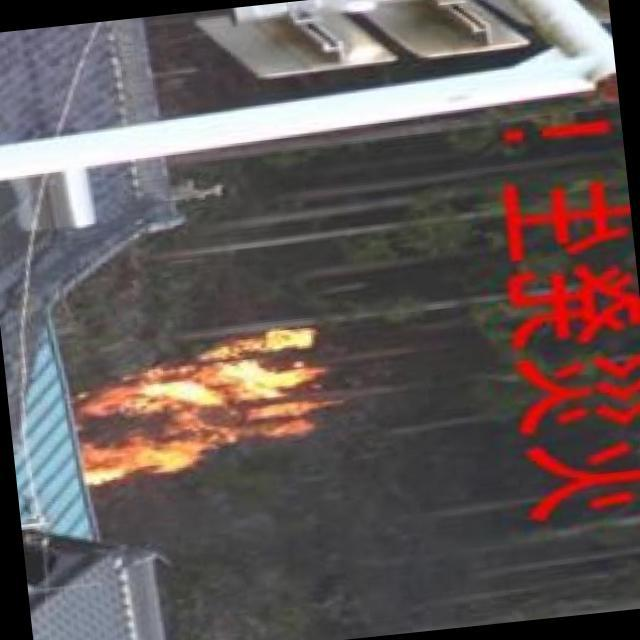Fire: (55, 312, 334, 498)
